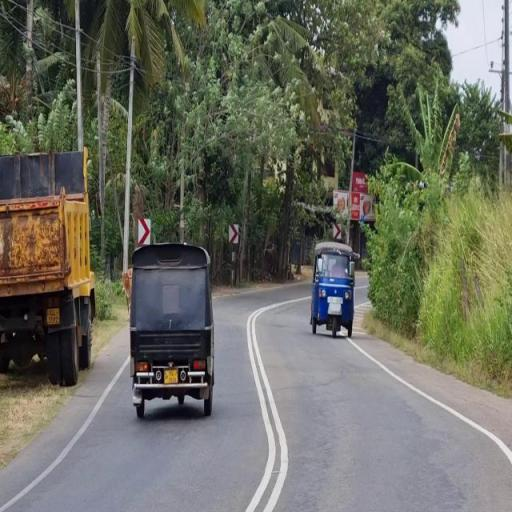double_white_line: (0, 357, 128, 511), (241, 296, 291, 510)
